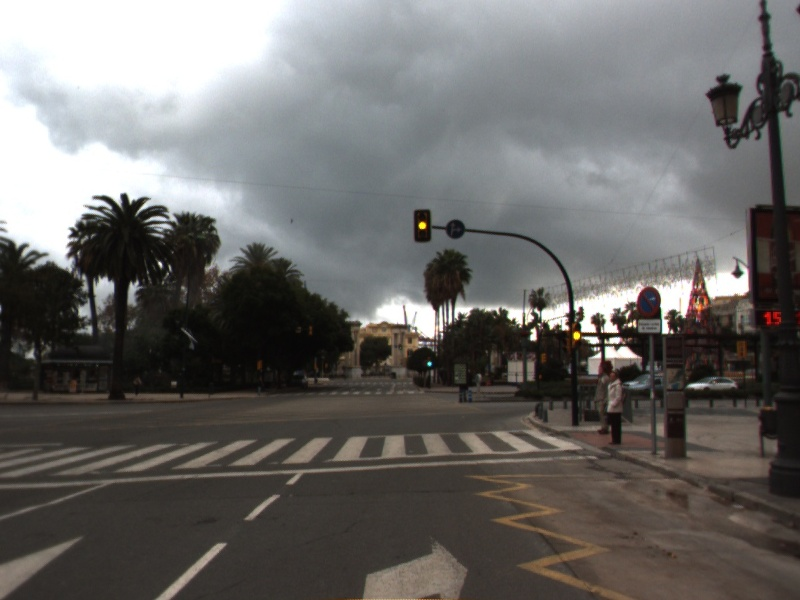RIGHT: (359, 528, 472, 600)
